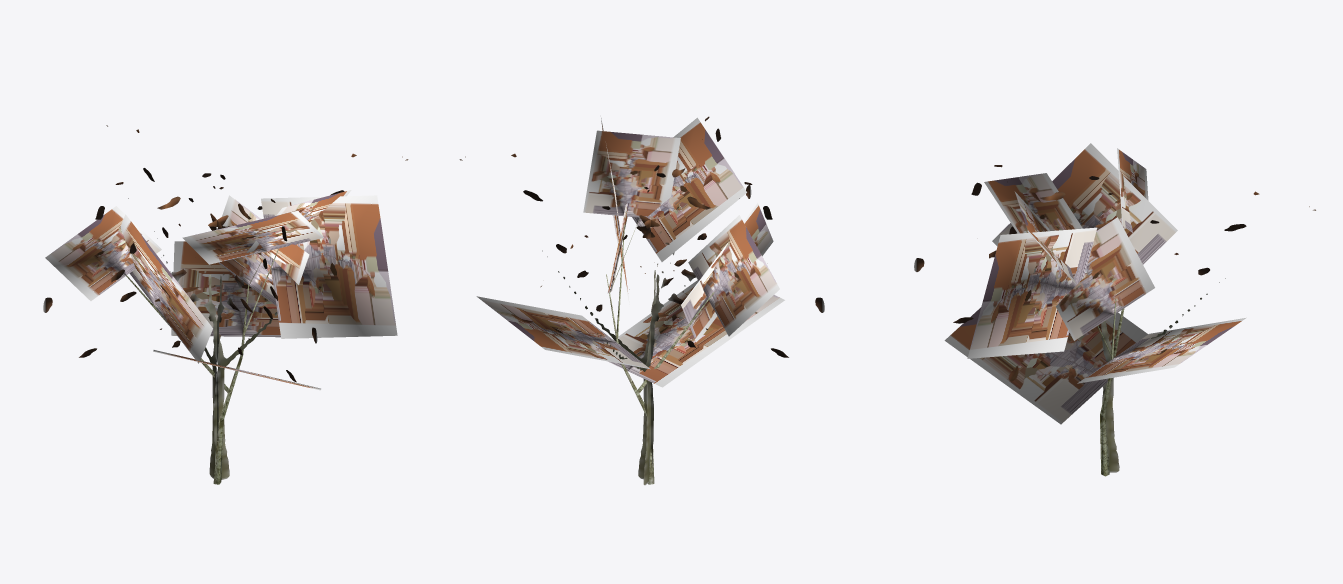
Rendered from Tree-Beech6D-mobile.fbx.
3 views of the same model, side by side, from view 1: azimuth 30°, elevation 25°; view 2: azimuth 150°, elevation 25°; view 3: azimuth 270°, elevation 25° (orthographic). The views are drawn at different scales.
Parts seen in each view (by area): view 1: Tree-Beech6D-mobile_LOD0, Billboard-BeechD; view 2: Tree-Beech6D-mobile_LOD0, Billboard-BeechD; view 3: Tree-Beech6D-mobile_LOD0, Billboard-BeechD.
Part boxes in pixels (x1,y1,x2,y2): Tree-Beech6D-mobile_LOD0: [45, 190, 397, 484]; Billboard-BeechD: [43, 125, 408, 479]; Tree-Beech6D-mobile_LOD0: [476, 117, 784, 484]; Billboard-BeechD: [459, 116, 824, 485]; Tree-Beech6D-mobile_LOD0: [944, 143, 1246, 476]; Billboard-BeechD: [914, 165, 1315, 472].
Size of what is drawn, in the model's own units: 905 by 820 by 905.
